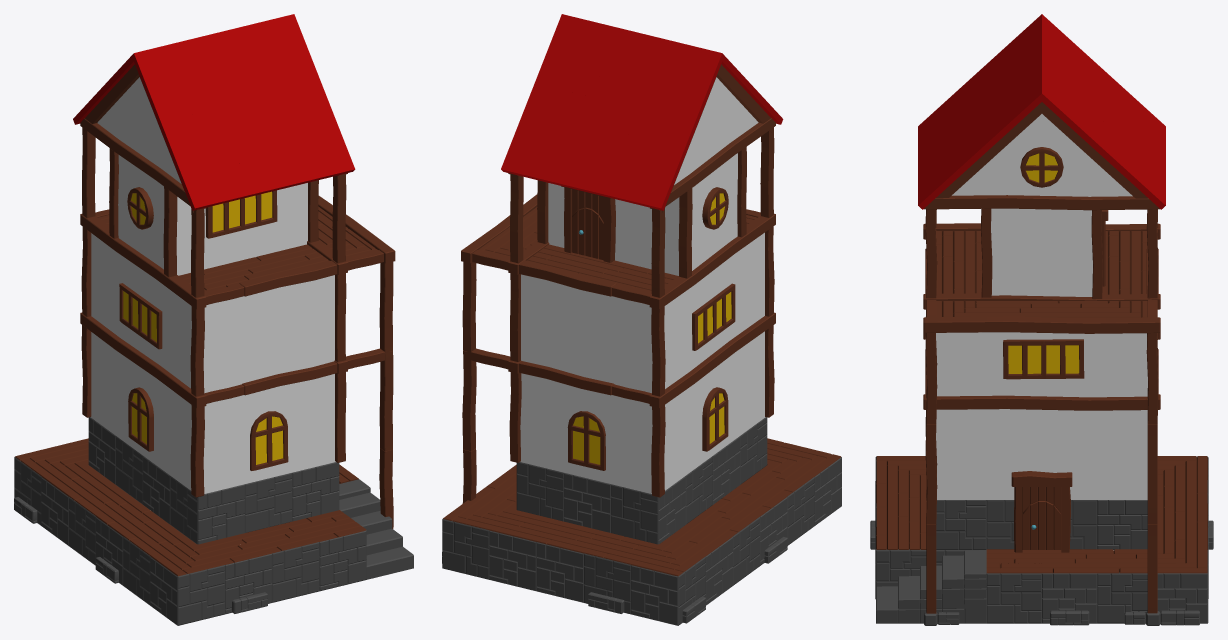
Rendered from House_Full_4.fbx.
3 views of the same model, side by side, from view 1: azimuth 30°, elevation 25°; view 2: azimuth 150°, elevation 25°; view 3: azimuth 270°, elevation 25° (orthographic).
Visible parts, largest first — view 1: Stone_Wall_LOD0, Wood_Floor_LOD0, Wall_small9, Wall_Large6, Wall_small7, Roof_Edge_6, Roof_Edge5, Roof_Edge_no9, Roof_Middle21, Roof_Edge_no_10, Window_Large (×2), Wall_small11 (+41 smaller); view 2: Stone_Wall_LOD0, Wood_Floor_LOD0, Wall_small8, Wall_Large6, Wall_small, Roof_Edge, Roof_Edge_1, Roof_Edge_no_1, Roof_Middle, Roof_Edge_no, Roof_Base, Wall_small6 (+44 smaller); view 3: Wood_Floor_LOD0, Stone_Wall_LOD0, Wall_Large, Wall_small12, Stone_Stairs_LOD0, Doorway_Wall, Beam18, Roof_Edge_1, Roof_Edge5, Roof_Edge_no, Roof_Edge_no_10, Window_Large (+38 smaller).
Part boxes in pixels (bbox=[...]): Stone_Wall_LOD0: bbox=[14, 417, 366, 625]; Wood_Floor_LOD0: bbox=[15, 206, 377, 576]; Wall_small9: bbox=[245, 275, 334, 382]; Wall_Large6: bbox=[91, 233, 191, 388]; Wall_small7: bbox=[245, 374, 335, 483]; Roof_Edge_6: bbox=[161, 108, 251, 212]; Roof_Edge5: bbox=[265, 83, 355, 185]; Roof_Edge_no9: bbox=[134, 39, 217, 143]; Roof_Middle21: bbox=[218, 97, 298, 196]; Roof_Edge_no_10: bbox=[238, 14, 321, 96]; Window_Large (×2): bbox=[119, 190, 277, 349]; Wall_small11: bbox=[217, 183, 307, 265]; Stone_Wall_LOD0: bbox=[442, 417, 841, 625]; Wood_Floor_LOD0: bbox=[443, 207, 840, 576]; Wall_small8: bbox=[521, 274, 611, 382]; Wall_Large6: bbox=[664, 232, 764, 388]; Wall_small: bbox=[520, 373, 611, 483]; Roof_Edge: bbox=[604, 108, 694, 212]; Roof_Edge_1: bbox=[501, 83, 590, 185]; Roof_Edge_no_1: bbox=[638, 39, 722, 142]; Roof_Middle: bbox=[557, 97, 637, 196]; Roof_Edge_no: bbox=[535, 14, 618, 96]; Roof_Base: bbox=[591, 28, 665, 108]; Wall_small6: bbox=[685, 349, 739, 475]; Wood_Floor_LOD0: bbox=[876, 231, 1207, 573]; Stone_Wall_LOD0: bbox=[875, 457, 1208, 623]; Wall_Large: bbox=[936, 332, 1147, 397]; Wall_small12: bbox=[991, 208, 1092, 296]; Stone_Stairs_LOD0: bbox=[876, 550, 986, 623]; Doorway_Wall: bbox=[986, 449, 1097, 499]; Beam18: bbox=[923, 316, 1160, 333]; Roof_Edge_1: bbox=[1097, 116, 1165, 213]; Roof_Edge5: bbox=[918, 116, 986, 213]; Roof_Edge_no: bbox=[1042, 66, 1097, 163]; Roof_Edge_no_10: bbox=[986, 66, 1041, 163]; Window_Large: bbox=[1003, 339, 1084, 379].
Size of what is drawn, in the model's own units: 0.0522 by 0.1021 by 0.062.
